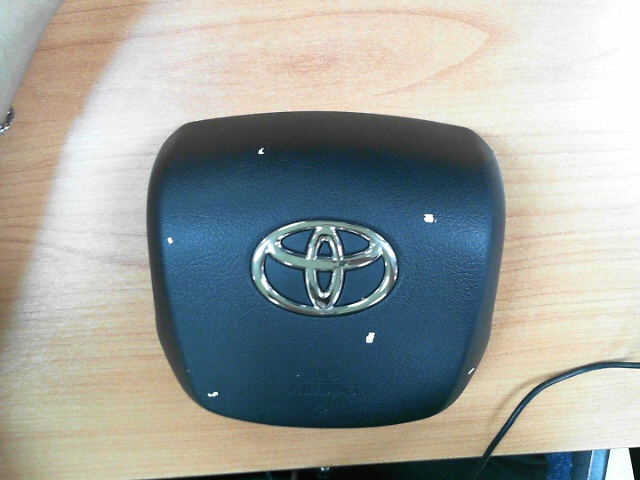Airbag: (423, 213, 438, 224), (365, 331, 376, 344), (207, 391, 220, 398), (257, 146, 265, 155), (167, 236, 174, 246), (467, 367, 475, 375)
